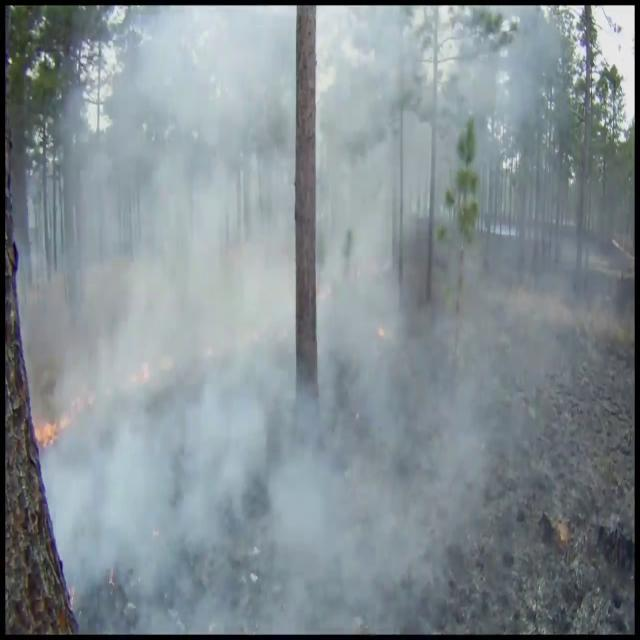Smoke: (15, 6, 563, 634)
